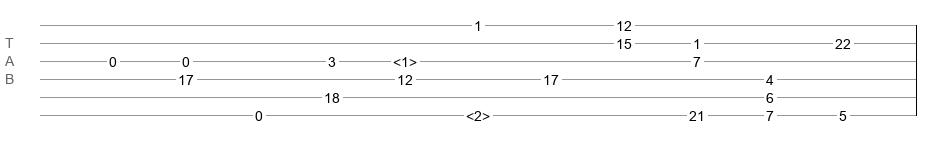0: (109, 54, 117, 64), (182, 54, 190, 64), (255, 108, 263, 118)
1: (474, 18, 482, 28), (693, 36, 701, 46)
12: (397, 72, 413, 82), (616, 18, 632, 28)
15: (616, 36, 632, 46)
17: (178, 72, 194, 82), (543, 72, 559, 82)
18: (324, 90, 340, 100)
21: (689, 108, 705, 118)
22: (835, 36, 851, 46)
3: (328, 54, 336, 64)
4: (766, 72, 774, 82)
5: (839, 108, 847, 118)
6: (766, 90, 774, 100)
7: (693, 54, 701, 64), (766, 108, 774, 118)
harmonic: (393, 54, 417, 64), (466, 108, 490, 118)
